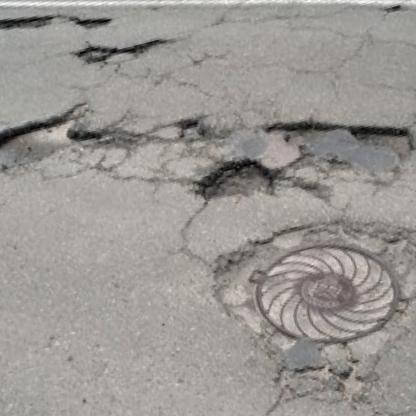pothole: (263, 90, 416, 199), (0, 102, 108, 178), (192, 150, 276, 212), (72, 26, 168, 73), (0, 0, 57, 46), (65, 4, 113, 35), (176, 113, 208, 142), (382, 3, 403, 16)
